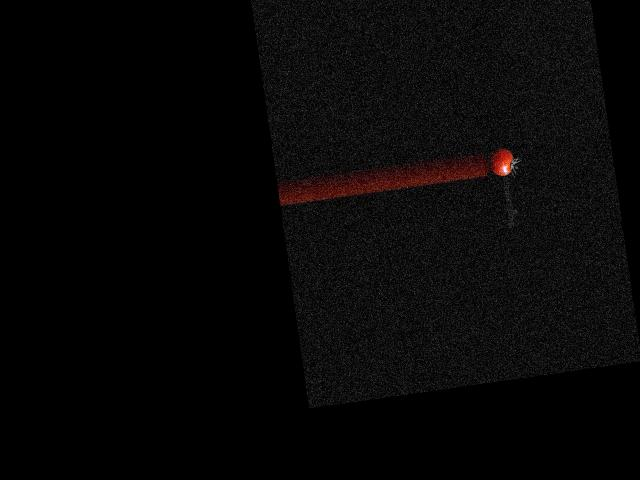tomato: (488, 147, 515, 177)
